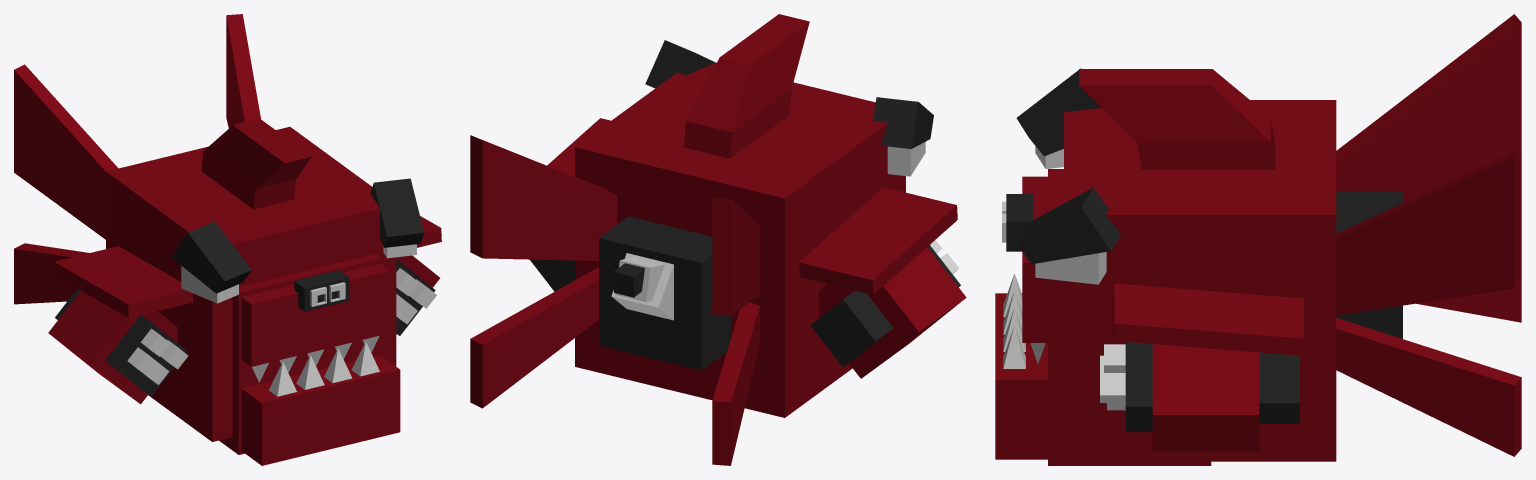
The model's file is piranah 1.fbx.
3 views of the same model, side by side, from view 1: azimuth 30°, elevation 25°; view 2: azimuth 150°, elevation 25°; view 3: azimuth 270°, elevation 25° (orthographic). The views are drawn at different scales.
Parts seen in each view (by area): view 1: Cube; view 2: Cube; view 3: Cube.
Part boxes in pixels (x1,y1,x2,y2): Cube: (14,14,441,465); Cube: (470,14,966,465); Cube: (995,14,1521,465).
Size of the model in its own units: 381 by 279 by 387.
